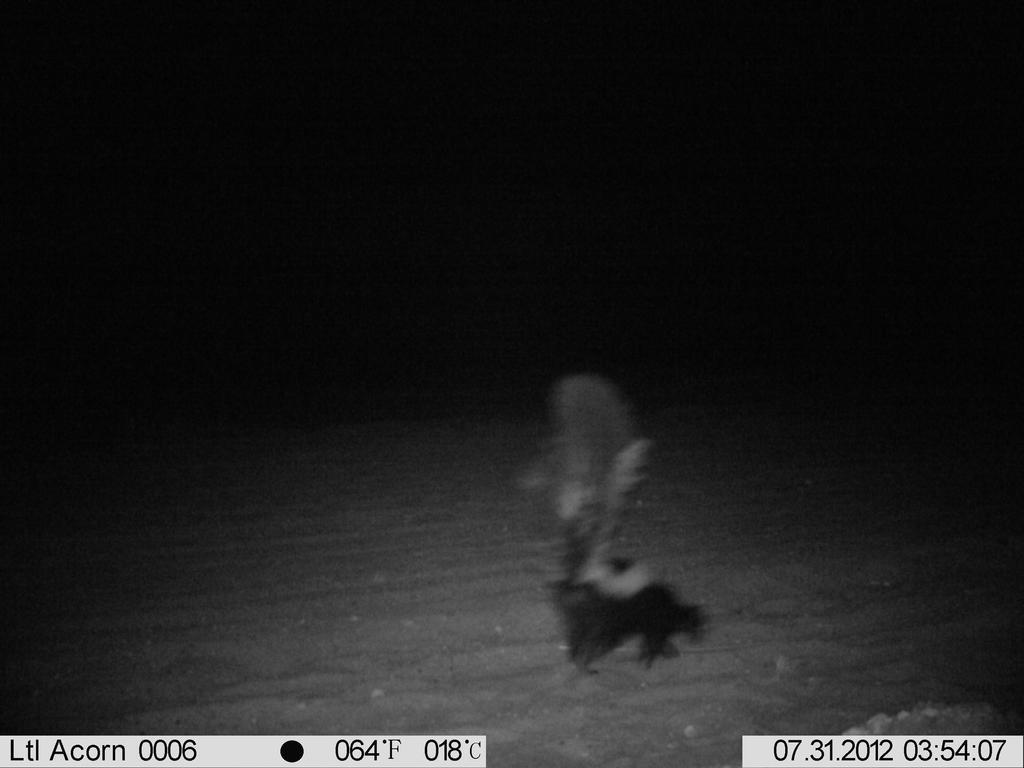skunk: (514, 364, 716, 685)
